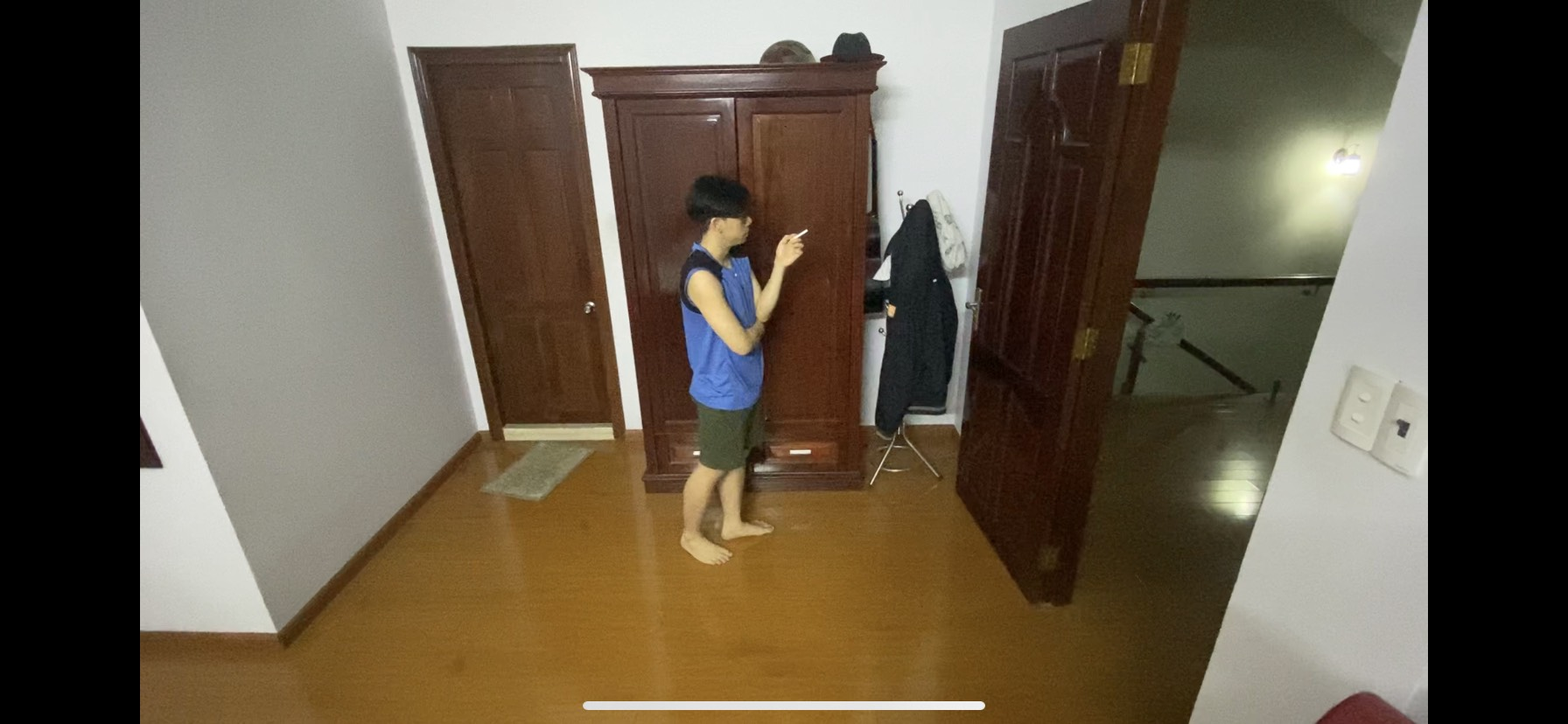cigarette: (794, 227, 813, 240)
person: (659, 170, 816, 566)
